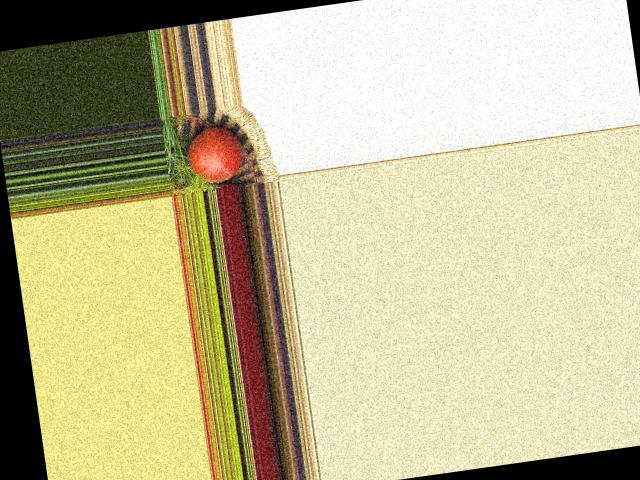tomato: (183, 124, 246, 185)
